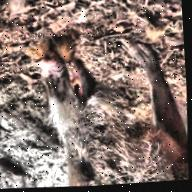boar: (4, 23, 192, 191)
